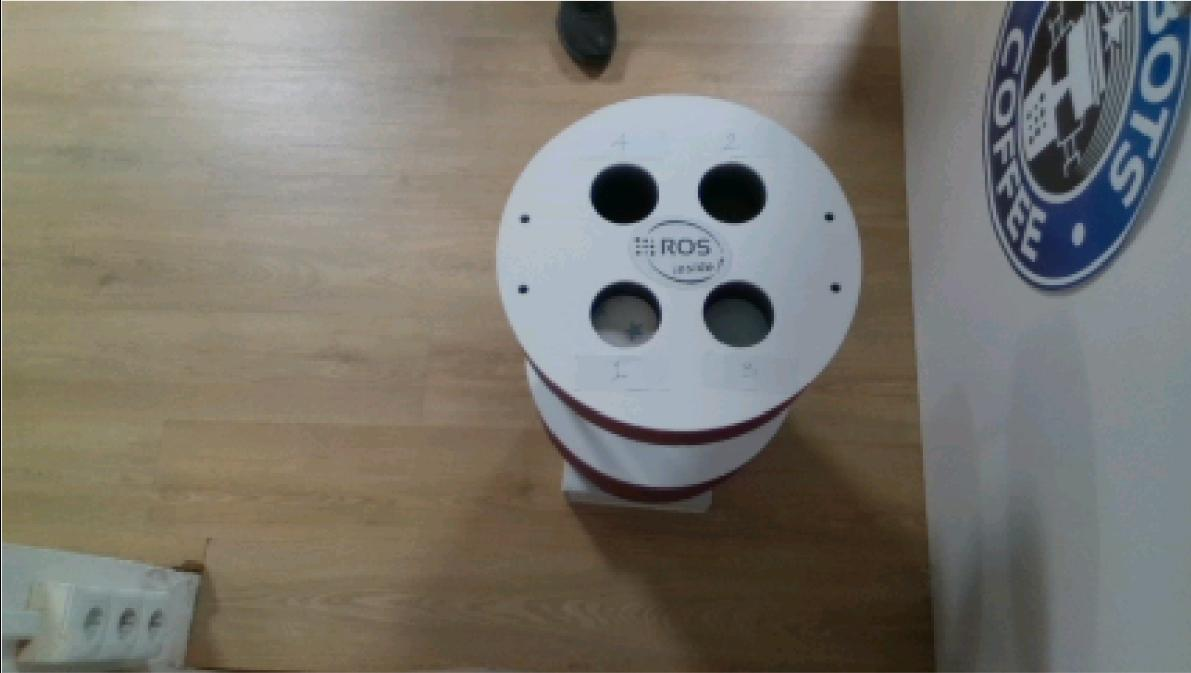hole: (584, 276, 666, 351), (702, 274, 778, 350), (584, 157, 662, 228), (697, 154, 772, 227)
